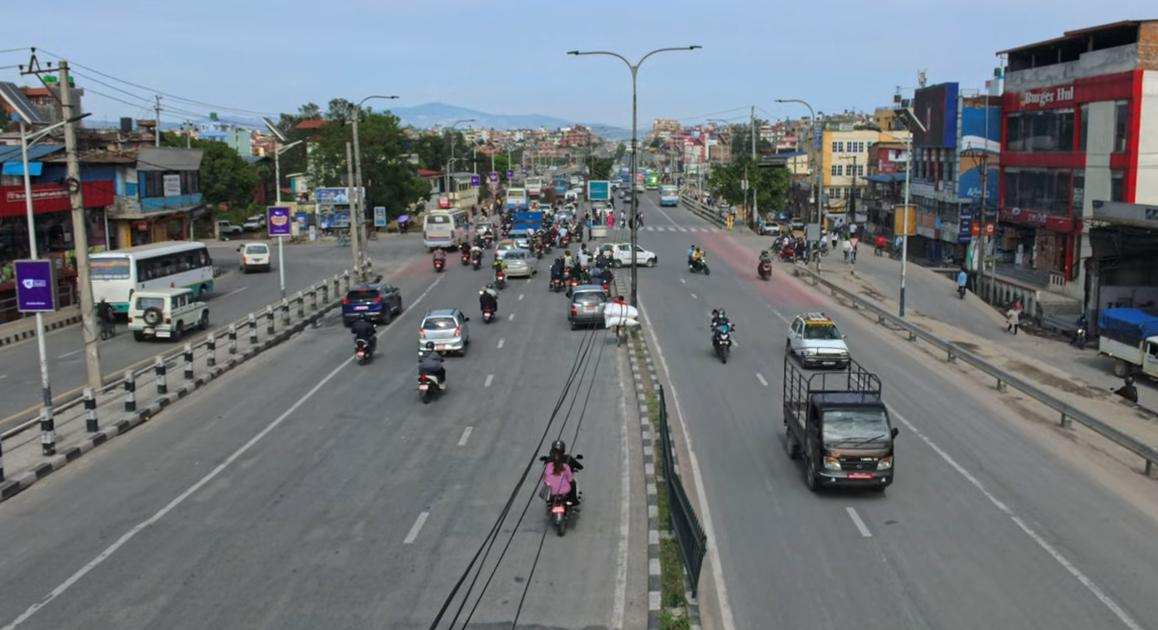ambulance: (122, 279, 215, 345)
bus: (79, 239, 217, 312), (418, 204, 474, 251), (656, 184, 680, 207)
car: (340, 280, 406, 324), (419, 306, 471, 357), (568, 283, 615, 331)
taxi: (785, 311, 852, 370)
transport_vehicle: (1094, 299, 1158, 381)
van: (236, 239, 271, 274)
